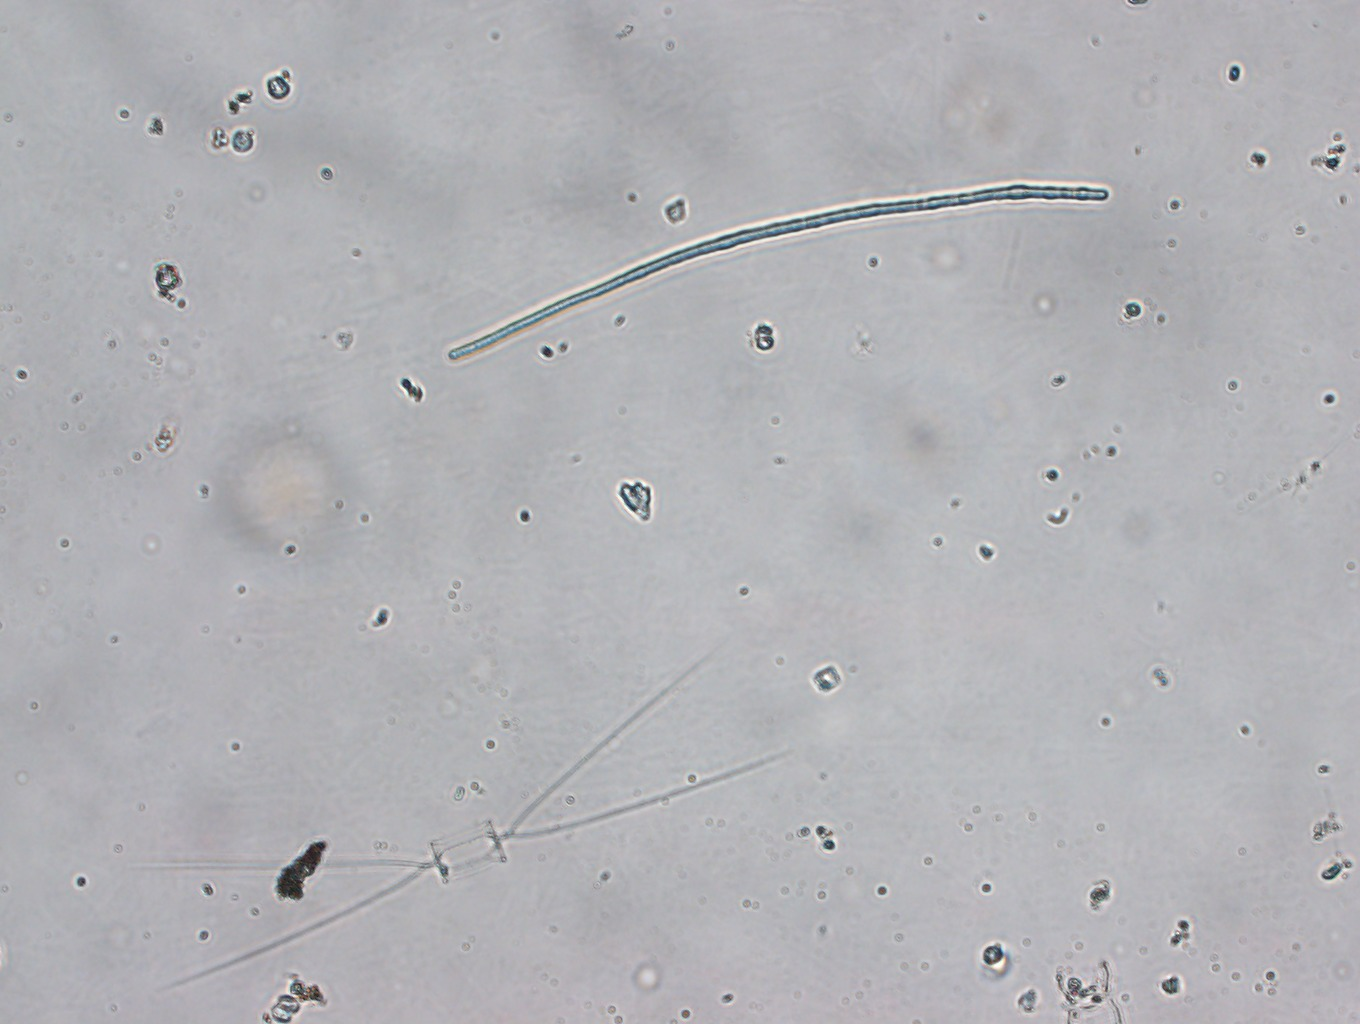chaetoceros: (148, 640, 800, 1001)
